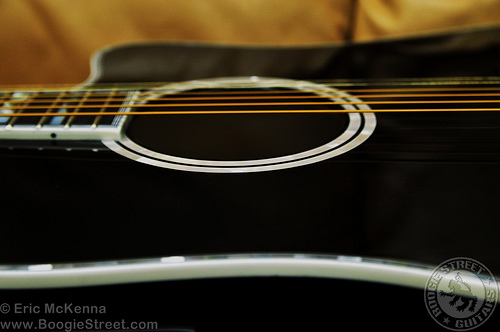guitar: (1, 27, 499, 332)
